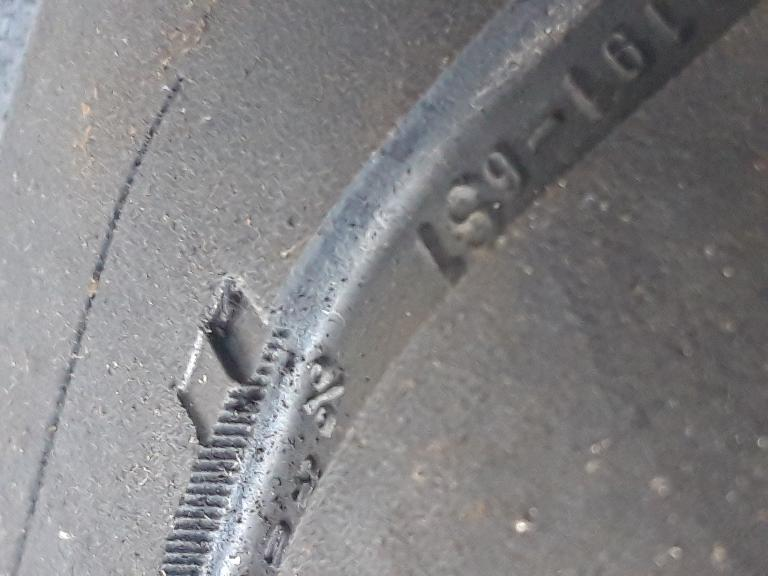temoin:25: (166, 266, 302, 466)
